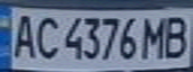3: (81, 14, 103, 61)
4: (60, 14, 84, 61)
6: (118, 15, 142, 61)
7: (100, 14, 121, 61)
A: (6, 10, 39, 60)
B: (160, 12, 193, 60)
C: (30, 12, 60, 61)
M: (139, 12, 172, 61)
